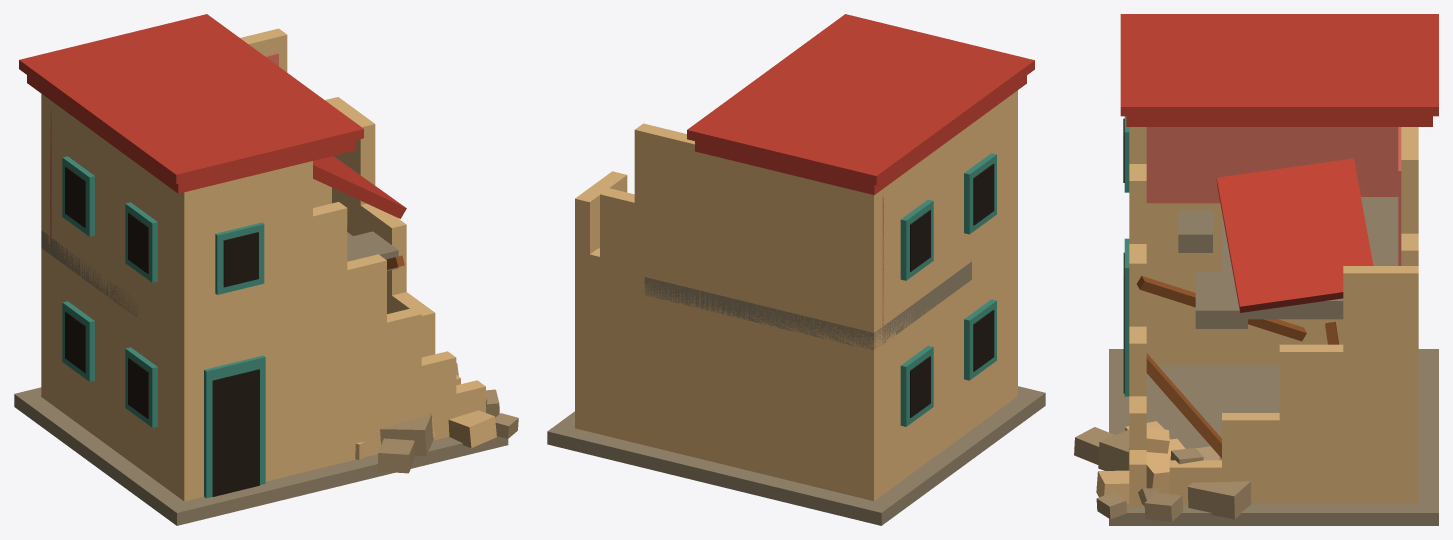
The model's file is wrecked-building.obj.
The picture shows the model from 3 angles, left to right: view 1: azimuth 30°, elevation 25°; view 2: azimuth 150°, elevation 25°; view 3: azimuth 270°, elevation 25°; orthographic projection.
Visible parts, largest first — view 1: left_wall, roof_edge_trim, front_wall_main, front_break_0, ground_slab, front_break_1, door_dark, left_win_frame, left_win_glass, front_break_2, back_wall, roof_slab (+14 smaller); view 2: back_wall, left_wall, roof_edge_trim, ground_slab, back_wall_stub_a, floor2_main, left_win_frame, left_win_glass, back_wall_stub_b, roof_slab, right_stub_a; view 3: roof_edge_trim, roof_fallen_panel, ground_slab, right_stub_a, left_inner_lining, left_wall, right_stub_b, right_stub_c, floor2_main, roof_slab, back_wall_stub_b, floor2_jag_a (+23 smaller).
Part boxes in pixels (left/top/right/bottom): left_wall: left=41, top=94, right=198, bottom=501; roof_edge_trim: left=19, top=14, right=363, bottom=183; front_wall_main: left=176, top=161, right=312, bottom=500; front_break_0: left=303, top=202, right=347, bottom=472; ground_slab: left=14, top=387, right=508, bottom=525; front_break_1: left=347, top=254, right=386, bottom=461; door_dark: left=212, top=369, right=259, bottom=496; left_win_frame: left=62, top=156, right=157, bottom=427; left_win_glass: left=65, top=166, right=148, bottom=418; front_break_2: left=387, top=308, right=421, bottom=426; back_wall: left=41, top=28, right=287, bottom=402; roof_slab: left=27, top=75, right=356, bottom=193; back_wall: left=634, top=123, right=882, bottom=500; left_wall: left=859, top=90, right=1017, bottom=500; roof_edge_trim: left=687, top=14, right=1034, bottom=185; ground_slab: left=547, top=386, right=1045, bottom=525; back_wall_stub_a: left=600, top=188, right=634, bottom=442; floor2_main: left=644, top=261, right=971, bottom=350; left_win_frame: left=900, top=153, right=996, bottom=426; left_win_glass: left=910, top=163, right=994, bottom=417; back_wall_stub_b: left=575, top=248, right=599, bottom=434; roof_slab: left=695, top=75, right=1026, bottom=195; right_stub_a: left=575, top=171, right=627, bottom=431; roof_edge_trim: left=1120, top=14, right=1438, bottom=116; roof_fallen_panel: left=1216, top=158, right=1373, bottom=312; ground_slab: left=1109, top=349, right=1438, bottom=525; right_stub_a: left=1343, top=266, right=1418, bottom=504; left_inner_lining: left=1146, top=127, right=1398, bottom=203; left_wall: left=1146, top=203, right=1343, bottom=364; right_stub_b: left=1279, top=344, right=1343, bottom=504; right_stub_c: left=1222, top=413, right=1279, bottom=504; floor2_main: left=1222, top=197, right=1398, bottom=319; roof_slab: left=1126, top=116, right=1432, bottom=126; back_wall_stub_b: left=1401, top=326, right=1418, bottom=504; floor2_jag_a: left=1195, top=271, right=1247, bottom=328.
Bounding box in the file's own units: 7.09 × 6.68 × 6.3.
